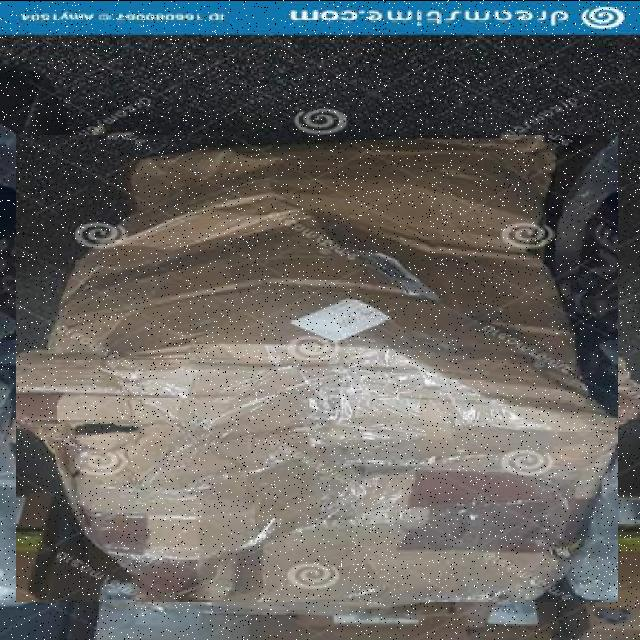defect: (16, 134, 618, 601)
